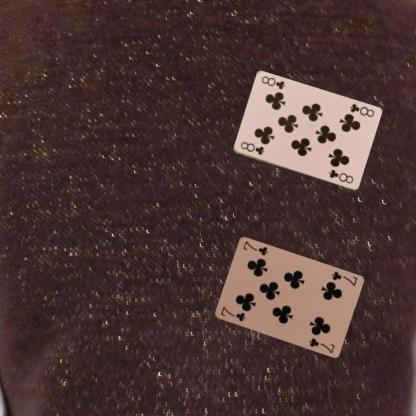7c: (329, 268, 358, 288), (218, 304, 247, 323)
8c: (347, 101, 375, 119), (238, 139, 266, 156)
